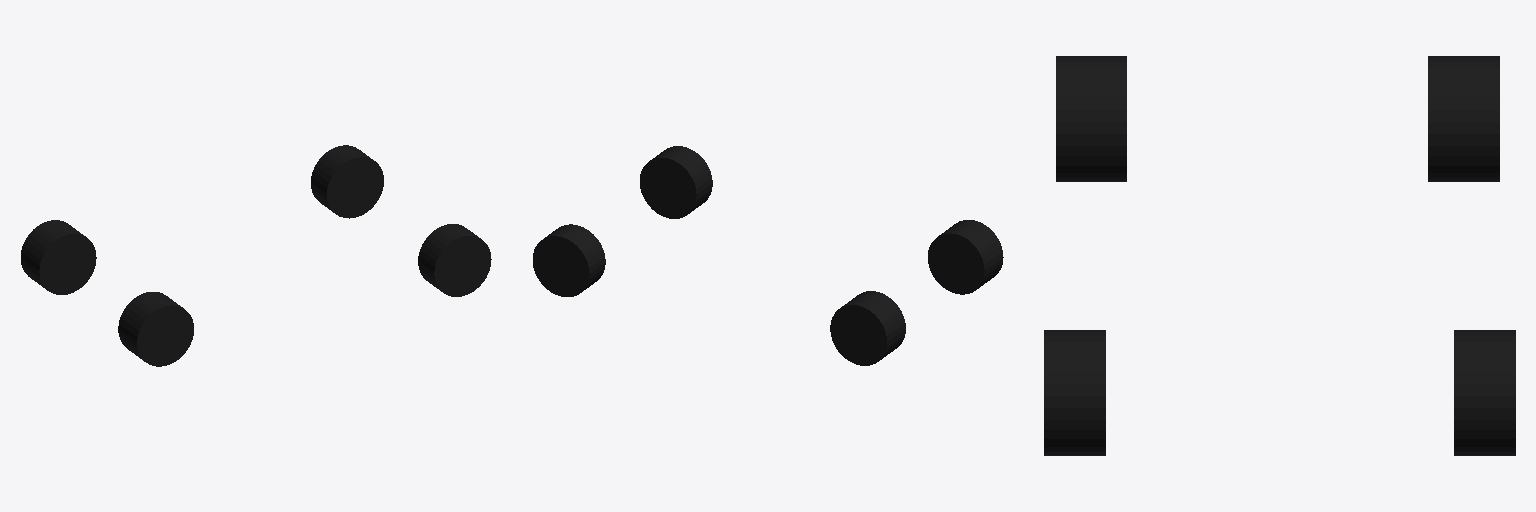
robot.urdf — R1:
<?xml version="1.0" encoding="utf-8"?>
<!-- This URDF was automatically created by SolidWorks to URDF Exporter and then extended for ROS/Gazebo simulation. -->
<robot name="R1">
  <link name="base_link">
    <inertial>
      <origin xyz="0.21879978611665 0.0 0.12" rpy="0 0 0" />
      <mass value="38.0603057004842" />
      <inertia
        ixx="0.70"
        ixy="0.0"
        ixz="0.0"
        iyy="1.10"
        iyz="0.0"
        izz="0.95" />
    </inertial>
    <visual>
      <origin xyz="0.19879978611665 0 0" rpy="0 0 3.14159265359" />
      <geometry>
        <mesh filename="package://zebrat/urdf/meshes/base_link.stl" />
      </geometry>
      <material name="">
        <color rgba="0.792156862745098 0.819607843137255 0.933333333333333 1" />
      </material>
    </visual>
    <collision>
      <origin xyz="0.21879978611665 0 0.17" rpy="0 0 0" />
      <geometry>
        <box size="0.50 0.16 0.22" />
      </geometry>
    </collision>
  </link>

  <link name="front_left_steering_link">
    <inertial>
      <origin xyz="0 0 -0.020375" rpy="0 0 0" />
      <mass value="0.30" />
      <inertia ixx="2e-4" ixy="0" ixz="0" iyy="2e-4" iyz="0" izz="2e-4" />
    </inertial>
  </link>

  <link name="front_right_steering_link">
    <inertial>
      <origin xyz="0 0 -0.020375" rpy="0 0 0" />
      <mass value="0.30" />
      <inertia ixx="2e-4" ixy="0" ixz="0" iyy="2e-4" iyz="0" izz="2e-4" />
    </inertial>
  </link>

  <link name="Empty_Link1">
    <inertial>
      <origin xyz="0 0 0" rpy="0 0 0" />
      <mass value="0.102007563940439" />
      <inertia
        ixx="6.03197633111551E-05"
        ixy="-1.09650777535302E-10"
        ixz="7.71132214702415E-10"
        iyy="9.37857965039355E-05"
        iyz="9.81331506021422E-10"
        izz="6.03194335121187E-05" />
    </inertial>
    <visual>
      <origin xyz="0 0 0" rpy="1.57079632679 0 0" />
      <geometry>
        <cylinder radius="0.04075" length="0.040" />
      </geometry>
      <material name="">
        <color rgba="0.152941176470588 0.152941176470588 0.152941176470588 1" />
      </material>
    </visual>
    <collision>
      <origin xyz="0 0 0" rpy="1.57079632679 0 0" />
      <geometry>
        <cylinder radius="0.04075" length="0.040" />
      </geometry>
    </collision>
  </link>

  <joint name="front_left_steering_joint" type="revolute">
    <origin xyz="0.418927695976663 0.132310316479216 0.04075" rpy="0 0 0" />
    <parent link="base_link" />
    <child link="front_left_steering_link" />
    <axis xyz="0 0 1" />
    <limit lower="-0.6" upper="0.6" effort="30" velocity="4" />
    <dynamics damping="3.0" friction="0.2" />
  </joint>

  <joint name="front_left_wheel_joint" type="continuous">
    <origin xyz="0 0 -0.04075" rpy="0 0 0" />
    <parent link="front_left_steering_link" />
    <child link="Empty_Link1" />
    <axis xyz="0 1 0" />
    <limit effort="30" velocity="60" />
    <dynamics damping="0.02" friction="0.0" />
  </joint>

  <link name="Empty_Link2">
    <inertial>
      <origin xyz="0 0 0" rpy="0 0 0" />
      <mass value="0.102007476255524" />
      <inertia
        ixx="6.03196775650763E-05"
        ixy="-1.30454716001587E-10"
        ixz="8.2130239199344E-10"
        iyy="9.37857280988688E-05"
        iyz="9.77509097955072E-10"
        izz="6.03194264639649E-05" />
    </inertial>
    <visual>
      <origin xyz="0 0 0" rpy="1.57079632679 0 0" />
      <geometry>
        <cylinder radius="0.04075" length="0.040" />
      </geometry>
      <material name="">
        <color rgba="0.152941176470588 0.152941176470588 0.152941176470588 1" />
      </material>
    </visual>
    <collision>
      <origin xyz="0 0 0" rpy="1.57079632679 0 0" />
      <geometry>
        <cylinder radius="0.04075" length="0.040" />
      </geometry>
    </collision>
  </link>

  <joint name="front_right_steering_joint" type="revolute">
    <origin xyz="0.418927695976663 -0.132310316479216 0.04075" rpy="0 0 0" />
    <parent link="base_link" />
    <child link="front_right_steering_link" />
    <axis xyz="0 0 1" />
    <limit lower="-0.6" upper="0.6" effort="30" velocity="4" />
    <dynamics damping="3.0" friction="0.2" />
  </joint>

  <joint name="front_right_wheel_joint" type="continuous">
    <origin xyz="0 0 -0.04075" rpy="0 0 0" />
    <parent link="front_right_steering_link" />
    <child link="Empty_Link2" />
    <axis xyz="0 -1 0" />
    <limit effort="30" velocity="60" />
    <dynamics damping="0.02" friction="0.0" />
  </joint>

  <link name="Empty_Link3">
    <inertial>
      <origin xyz="3.76217621722574E-07 -0.00343116064614217 1.77734477486638E-07" rpy="0 0 0" />
      <mass value="0.130385211409052" />
      <inertia
        ixx="7.86812106003073E-05"
        ixy="5.53858346756479E-11"
        ixz="9.23581794342341E-08"
        iyy="0.000108048071855382"
        iyz="-1.15152881530515E-10"
        izz="7.82862361574103E-05" />
    </inertial>
    <visual>
      <origin xyz="0 -0.0010 0" rpy="1.57079632679 0 0" />
      <geometry>
        <cylinder radius="0.04075" length="0.0465" />
      </geometry>
      <material name="">
        <color rgba="0.152941176470588 0.152941176470588 0.152941176470588 1" />
      </material>
    </visual>
    <collision>
      <origin xyz="0 -0.0010 0" rpy="1.57079632679 0 0" />
      <geometry>
        <cylinder radius="0.04075" length="0.0465" />
      </geometry>
    </collision>
  </link>

  <joint name="rear_right_wheel_joint" type="continuous">
    <origin xyz="0.0 -0.120910316479219 0.0" rpy="0 0 0" />
    <parent link="base_link" />
    <child link="Empty_Link3" />
    <axis xyz="0 -1 0" />
    <limit effort="20" velocity="20" />
    <dynamics damping="0.02" friction="0.0" />
  </joint>

  <link name="Empty_Link4">
    <inertial>
      <origin xyz="3.64091904681008E-07 0.000181544843160394 3.71723492477368E-07" rpy="0 0 0" />
      <mass value="0.130386181839137" />
      <inertia
        ixx="7.86817593166718E-05"
        ixy="7.73070482159629E-11"
        ixz="9.25265700656962E-08"
        iyy="0.00010804820646223"
        iyz="-1.16088106414147E-10"
        izz="7.82861601090754E-05" />
    </inertial>
    <visual>
      <origin xyz="0 -0.0020 0" rpy="1.57079632679 0 0" />
      <geometry>
        <cylinder radius="0.04075" length="0.0465" />
      </geometry>
      <material name="">
        <color rgba="0.152941176470588 0.152941176470588 0.152941176470588 1" />
      </material>
    </visual>
    <collision>
      <origin xyz="0 -0.0020 0" rpy="1.57079632679 0 0" />
      <geometry>
        <cylinder radius="0.04075" length="0.0465" />
      </geometry>
    </collision>
  </link>

  <joint name="rear_left_wheel_joint" type="continuous">
    <origin xyz="0.0 0.120910316479219 0.0" rpy="0 0 0" />
    <parent link="base_link" />
    <child link="Empty_Link4" />
    <axis xyz="0 1 0" />
    <limit effort="20" velocity="20" />
    <dynamics damping="0.02" friction="0.0" />
  </joint>

  <link name="imu_link">
    <inertial>
      <origin xyz="0 0 0" rpy="0 0 0" />
      <mass value="0.01" />
      <inertia ixx="1e-5" ixy="0" ixz="0" iyy="1e-5" iyz="0" izz="1e-5" />
    </inertial>
  </link>

  <joint name="imu_joint" type="fixed">
    <origin xyz="0.21879978611665 0 0.22" rpy="0 0 0" />
    <parent link="base_link" />
    <child link="imu_link" />
  </joint>

  <link name="laser_link">
    <inertial>
      <origin xyz="0 0 0" rpy="0 0 0" />
      <mass value="0.05" />
      <inertia ixx="2e-5" ixy="0" ixz="0" iyy="2e-5" iyz="0" izz="2e-5" />
    </inertial>
  </link>

  <joint name="laser_joint" type="fixed">
    <origin xyz="0.53879978611665 0 0.36" rpy="0 0 0" />
    <parent link="base_link" />
    <child link="laser_link" />
  </joint>

  <link name="camera_link">
    <inertial>
      <origin xyz="0 0 0" rpy="0 0 0" />
      <mass value="0.05" />
      <inertia ixx="2e-5" ixy="0" ixz="0" iyy="2e-5" iyz="0" izz="2e-5" />
    </inertial>
  </link>

  <joint name="camera_joint" type="fixed">
    <origin xyz="0.49879978611665 0 0.28" rpy="0 0 0" />
    <parent link="base_link" />
    <child link="camera_link" />
  </joint>

  <link name="camera_optical_link" />

  <joint name="camera_optical_joint" type="fixed">
    <origin xyz="0 0 0" rpy="-1.57079632679 0 -1.57079632679" />
    <parent link="camera_link" />
    <child link="camera_optical_link" />
  </joint>

  <gazebo reference="base_link">
    <material>Gazebo/White</material>
    <mu1>0.8</mu1>
    <mu2>0.8</mu2>
    <slip1>0.10</slip1>
    <slip2>0.10</slip2>
    <kp>30000.0</kp>
    <kd>5.0</kd>
  </gazebo>

  <gazebo reference="front_left_steering_link">
    <material>Gazebo/Black</material>
  </gazebo>

  <gazebo reference="front_right_steering_link">
    <material>Gazebo/Black</material>
  </gazebo>

  <gazebo reference="Empty_Link1">
    <material>Gazebo/Black</material>
    <mu1>4.0</mu1>
    <mu2>4.0</mu2>
    <fdir1>1 0 0</fdir1>
    <slip1>0.05</slip1>
    <slip2>0.05</slip2>
    <kp>50000.0</kp>
    <kd>5.0</kd>
  </gazebo>

  <gazebo reference="Empty_Link2">
    <material>Gazebo/Black</material>
    <mu1>4.0</mu1>
    <mu2>4.0</mu2>
    <fdir1>1 0 0</fdir1>
    <slip1>0.05</slip1>
    <slip2>0.05</slip2>
    <kp>50000.0</kp>
    <kd>5.0</kd>
  </gazebo>

  <gazebo reference="Empty_Link3">
    <material>Gazebo/Black</material>
    <mu1>4.0</mu1>
    <mu2>4.0</mu2>
    <fdir1>1 0 0</fdir1>
    <slip1>0.05</slip1>
    <slip2>0.05</slip2>
    <kp>50000.0</kp>
    <kd>5.0</kd>
  </gazebo>

  <gazebo reference="Empty_Link4">
    <material>Gazebo/Black</material>
    <mu1>4.0</mu1>
    <mu2>4.0</mu2>
    <fdir1>1 0 0</fdir1>
    <slip1>0.05</slip1>
    <slip2>0.05</slip2>
    <kp>50000.0</kp>
    <kd>5.0</kd>
  </gazebo>

  <gazebo reference="laser_link">
    <sensor name="front_laser" type="ray">
      <always_on>true</always_on>
      <update_rate>15.0</update_rate>
      <visualize>true</visualize>
      <pose>0 0 0 0 0 0</pose>
      <ray>
        <scan>
          <horizontal>
            <samples>1080</samples>
            <resolution>1</resolution>
            <min_angle>-3.14159</min_angle>
            <max_angle>3.14159</max_angle>
          </horizontal>
        </scan>
        <range>
          <min>0.12</min>
          <max>8.0</max>
          <resolution>0.01</resolution>
        </range>
        <noise>
          <type>gaussian</type>
          <mean>0.0</mean>
          <stddev>0.01</stddev>
        </noise>
      </ray>
      <plugin name="laser_plugin" filename="libgazebo_ros_laser.so">
        <topicName>scan</topicName>
        <frameName>laser_link</frameName>
      </plugin>
    </sensor>
  </gazebo>

  <gazebo reference="imu_link">
    <sensor name="imu_sensor" type="imu">
      <always_on>true</always_on>
      <update_rate>50.0</update_rate>
      <plugin name="imu_plugin" filename="libgazebo_ros_imu_sensor.so">
        <alwaysOn>true</alwaysOn>
        <bodyName>imu_link</bodyName>
        <topicName>imu/data</topicName>
        <frameName>imu_link</frameName>
        <gaussianNoise>0.002</gaussianNoise>
      </plugin>
    </sensor>
  </gazebo>

  <gazebo reference="camera_link">
    <sensor name="front_camera" type="depth">
      <always_on>true</always_on>
      <update_rate>15.0</update_rate>
      <visualize>false</visualize>
      <camera>
        <horizontal_fov>1.3962634</horizontal_fov>
        <image>
          <width>640</width>
          <height>480</height>
          <format>R8G8B8</format>
        </image>
        <clip>
          <near>0.05</near>
          <far>20.0</far>
        </clip>
        <depth_camera />
      </camera>
      <plugin name="camera_plugin" filename="libgazebo_ros_openni_kinect.so">
        <alwaysOn>true</alwaysOn>
        <updateRate>15.0</updateRate>
        <baseline>0.2</baseline>
        <cameraName>front_camera</cameraName>
        <imageTopicName>rgb/image_raw</imageTopicName>
        <cameraInfoTopicName>rgb/camera_info</cameraInfoTopicName>
        <depthImageTopicName>depth/image_raw</depthImageTopicName>
        <depthImageCameraInfoTopicName>depth/camera_info</depthImageCameraInfoTopicName>
        <pointCloudTopicName>depth/points</pointCloudTopicName>
        <frameName>camera_optical_link</frameName>
        <hackBaseline>0.07</hackBaseline>
        <pointCloudCutoff>0.10</pointCloudCutoff>
        <pointCloudCutoffMax>8.0</pointCloudCutoffMax>
        <distortionK1>0.0</distortionK1>
        <distortionK2>0.0</distortionK2>
        <distortionK3>0.0</distortionK3>
        <distortionT1>0.0</distortionT1>
        <distortionT2>0.0</distortionT2>
        <CxPrime>0.0</CxPrime>
        <Cx>0.0</Cx>
        <Cy>0.0</Cy>
        <focalLength>0.0</focalLength>
      </plugin>
    </sensor>
  </gazebo>

  <transmission name="front_left_steering_transmission">
    <type>transmission_interface/SimpleTransmission</type>
    <joint name="front_left_steering_joint">
      <hardwareInterface>hardware_interface/PositionJointInterface</hardwareInterface>
    </joint>
    <actuator name="front_left_steering_motor">
      <mechanicalReduction>1</mechanicalReduction>
      <hardwareInterface>hardware_interface/PositionJointInterface</hardwareInterface>
    </actuator>
  </transmission>

  <transmission name="front_right_steering_transmission">
    <type>transmission_interface/SimpleTransmission</type>
    <joint name="front_right_steering_joint">
      <hardwareInterface>hardware_interface/PositionJointInterface</hardwareInterface>
    </joint>
    <actuator name="front_right_steering_motor">
      <mechanicalReduction>1</mechanicalReduction>
      <hardwareInterface>hardware_interface/PositionJointInterface</hardwareInterface>
    </actuator>
  </transmission>

  <transmission name="front_left_wheel_transmission">
    <type>transmission_interface/SimpleTransmission</type>
    <joint name="front_left_wheel_joint">
      <hardwareInterface>hardware_interface/VelocityJointInterface</hardwareInterface>
    </joint>
    <actuator name="front_left_wheel_motor">
      <mechanicalReduction>1</mechanicalReduction>
      <hardwareInterface>hardware_interface/VelocityJointInterface</hardwareInterface>
    </actuator>
  </transmission>

  <transmission name="front_right_wheel_transmission">
    <type>transmission_interface/SimpleTransmission</type>
    <joint name="front_right_wheel_joint">
      <hardwareInterface>hardware_interface/VelocityJointInterface</hardwareInterface>
    </joint>
    <actuator name="front_right_wheel_motor">
      <mechanicalReduction>1</mechanicalReduction>
      <hardwareInterface>hardware_interface/VelocityJointInterface</hardwareInterface>
    </actuator>
  </transmission>

  <transmission name="rear_left_wheel_transmission">
    <type>transmission_interface/SimpleTransmission</type>
    <joint name="rear_left_wheel_joint">
      <hardwareInterface>hardware_interface/EffortJointInterface</hardwareInterface>
    </joint>
    <actuator name="rear_left_wheel_passive">
      <mechanicalReduction>1</mechanicalReduction>
      <hardwareInterface>hardware_interface/EffortJointInterface</hardwareInterface>
    </actuator>
  </transmission>

  <transmission name="rear_right_wheel_transmission">
    <type>transmission_interface/SimpleTransmission</type>
    <joint name="rear_right_wheel_joint">
      <hardwareInterface>hardware_interface/EffortJointInterface</hardwareInterface>
    </joint>
    <actuator name="rear_right_wheel_passive">
      <mechanicalReduction>1</mechanicalReduction>
      <hardwareInterface>hardware_interface/EffortJointInterface</hardwareInterface>
    </actuator>
  </transmission>

  <gazebo>
    <plugin name="ground_truth_odom" filename="libgazebo_ros_p3d.so">
      <alwaysOn>true</alwaysOn>
      <updateRate>50.0</updateRate>
      <bodyName>base_link</bodyName>
      <topicName>ground_truth_odom</topicName>
      <frameName>world</frameName>
      <localTwist>true</localTwist>
      <xyzOffset>0 0 0</xyzOffset>
      <rpyOffset>0 0 0</rpyOffset>
      <gaussianNoise>0.0</gaussianNoise>
    </plugin>
  </gazebo>

  <gazebo>
    <plugin name="gazebo_ros_control" filename="libgazebo_ros_control.so">
      <robotNamespace>/r1</robotNamespace>
      <robotParam>/robot_description_gazebo</robotParam>
      <robotSimType>gazebo_ros_control/DefaultRobotHWSim</robotSimType>
    </plugin>
  </gazebo>
</robot>

--- Render facts (derived) ---
The picture shows the robot from 3 angles, left to right: view 1: azimuth 30°, elevation 25°; view 2: azimuth 150°, elevation 25°; view 3: azimuth 270°, elevation 25°; orthographic projection.
Model R1 with 11 links and 10 joints (2 revolute, 4 continuous, 4 fixed), rooted at base_link, posed all joints at 0.
Visible links, largest first — view 1: Empty_Link4, Empty_Link3, Empty_Link2, Empty_Link1; view 2: Empty_Link4, Empty_Link3, Empty_Link2, Empty_Link1; view 3: Empty_Link4, Empty_Link3, Empty_Link1, Empty_Link2.
Link boxes in pixels (left/top/right/bottom): Empty_Link4: left=21, top=220, right=96, bottom=294; Empty_Link3: left=118, top=292, right=193, bottom=366; Empty_Link2: left=418, top=224, right=491, bottom=296; Empty_Link1: left=311, top=145, right=383, bottom=218; Empty_Link4: left=830, top=291, right=905, bottom=365; Empty_Link3: left=928, top=220, right=1003, bottom=294; Empty_Link2: left=640, top=146, right=712, bottom=218; Empty_Link1: left=533, top=224, right=605, bottom=296; Empty_Link4: left=1428, top=56, right=1499, bottom=181; Empty_Link3: left=1056, top=56, right=1126, bottom=181; Empty_Link1: left=1454, top=330, right=1515, bottom=455; Empty_Link2: left=1044, top=330, right=1105, bottom=455.
Size in the robot's own frame: 0.5004 by 0.3046 by 0.0815 metres.
0 mesh visuals loaded from 1 distinct referenced files (none loaded); not drawn: 1 (reference not matched to a file when rendering).
